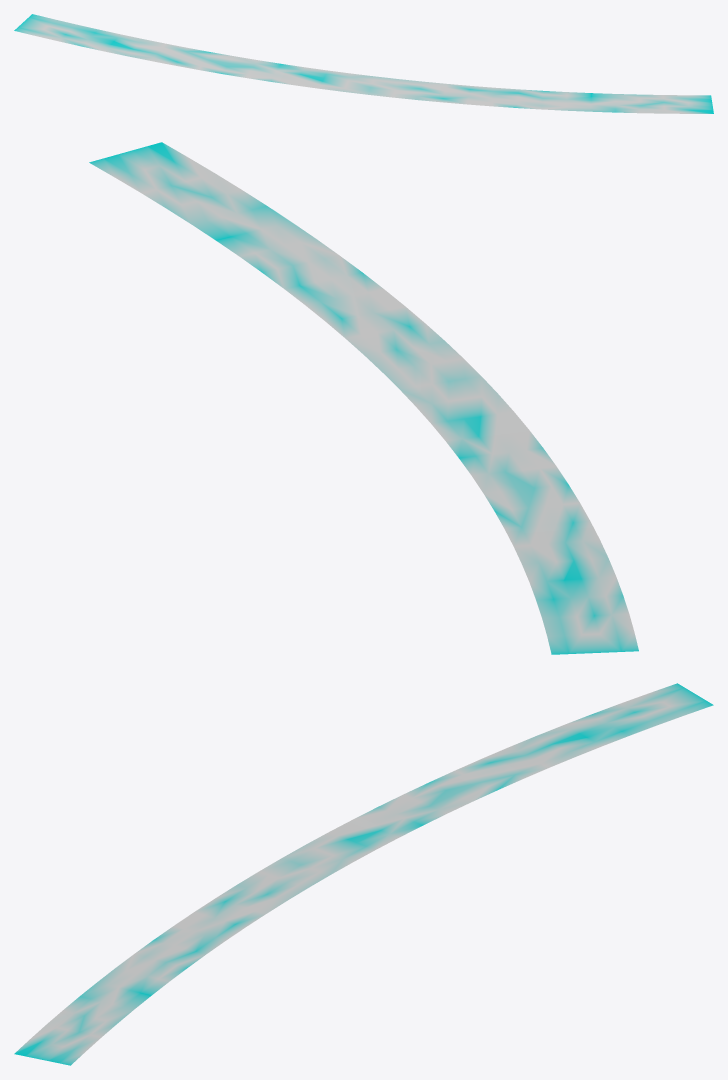
3 views of the same model, one above another, from view 1: azimuth 30°, elevation 25°; view 2: azimuth 150°, elevation 25°; view 3: azimuth 270°, elevation 25° (orthographic). The views are drawn at different scales.
Visible parts, largest first — view 1: SpaceCenter_Long3_GenerateRoad_Asphalt_PCGMesh_Decal_Mesh_x9; view 2: SpaceCenter_Long3_GenerateRoad_Asphalt_PCGMesh_Decal_Mesh_x9; view 3: SpaceCenter_Long3_GenerateRoad_Asphalt_PCGMesh_Decal_Mesh_x9.
Part boxes in pixels (box(x1,y1,x2,y2)): SpaceCenter_Long3_GenerateRoad_Asphalt_PCGMesh_Decal_Mesh_x9: box(14, 14, 713, 113); SpaceCenter_Long3_GenerateRoad_Asphalt_PCGMesh_Decal_Mesh_x9: box(89, 142, 638, 654); SpaceCenter_Long3_GenerateRoad_Asphalt_PCGMesh_Decal_Mesh_x9: box(14, 683, 713, 1065).
Bounding box in the file's own units: 758 × 874 × 49.51.
